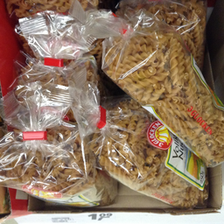pasta: (103, 11, 224, 161), (97, 100, 209, 207), (1, 126, 119, 206)
